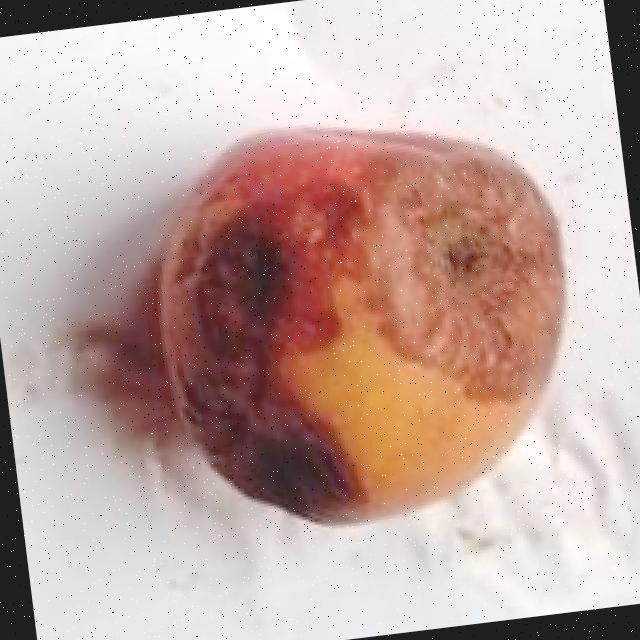rotten apple: (35, 59, 640, 616)
